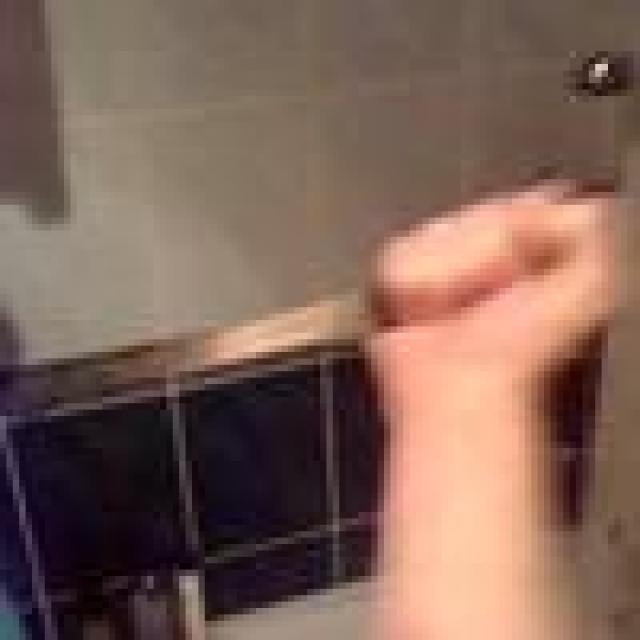knife: (47, 292, 370, 399)
